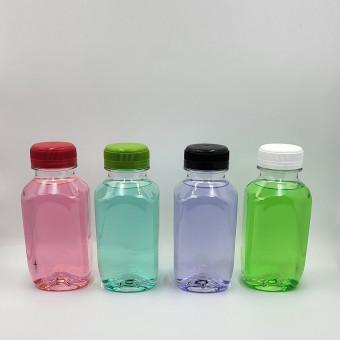plastic_bottle: (242, 134, 318, 305), (18, 136, 96, 297), (93, 138, 169, 298), (171, 136, 239, 301)
